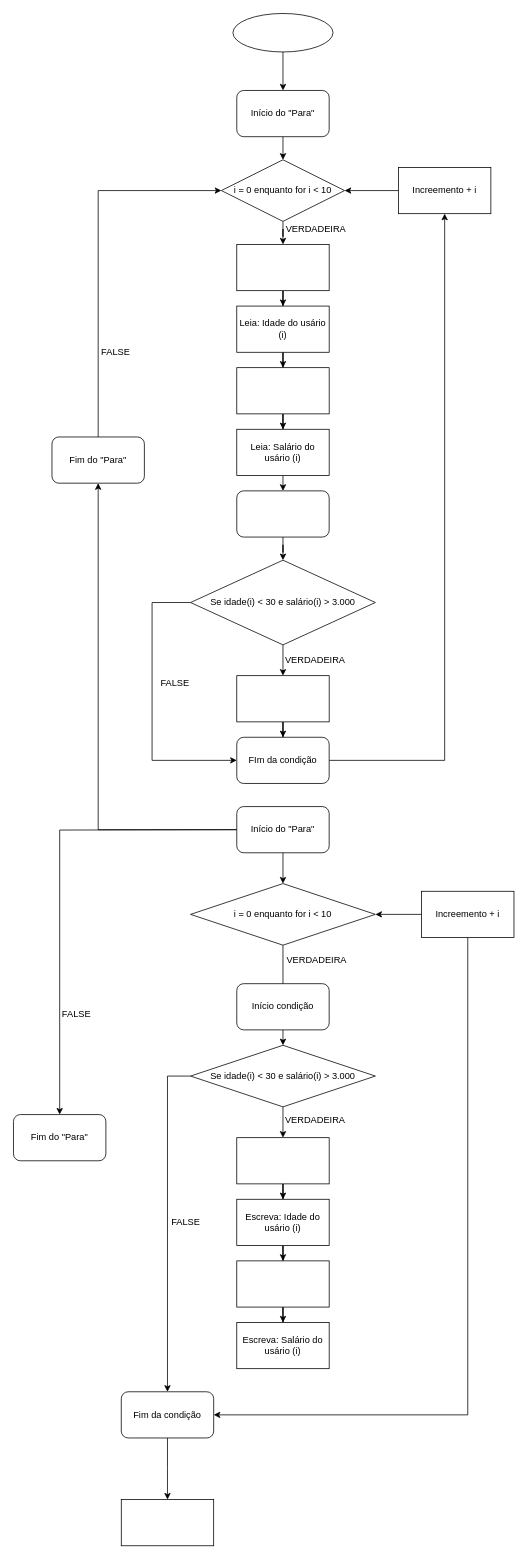
This 527x1559 diagram has some shape labels left out. Each missing label, with the box of its shape:
"contador" + 1: (236, 675, 329, 722)
Escreva c"ontador": (121, 1499, 214, 1546)
Escreva: cargo do usário (i): (236, 1260, 329, 1307)
Escreva: Nome do usário (i): (236, 1137, 329, 1184)
Início: (232, 13, 333, 52)
Início da condição: (236, 490, 329, 537)
Leia: cargo do usário (i): (236, 367, 329, 414)
Leia: Nome do usário (i): (236, 244, 329, 291)
